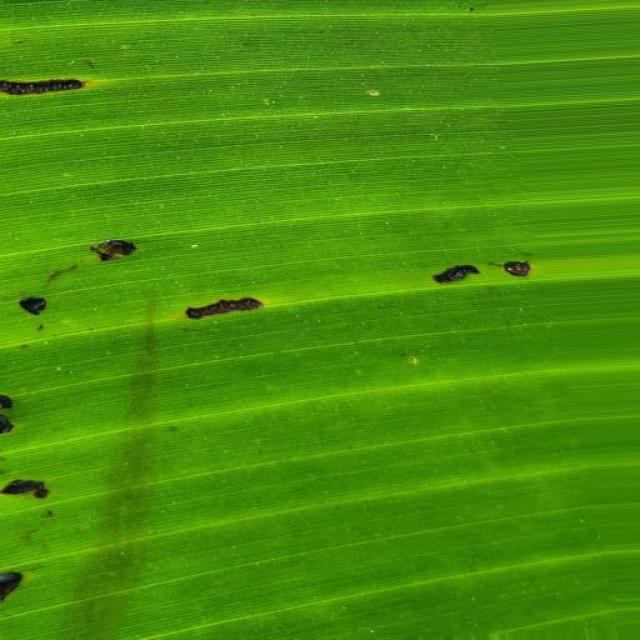Black_rot: (8, 235, 276, 332), (1, 360, 61, 634), (379, 245, 576, 314), (3, 53, 109, 119)
